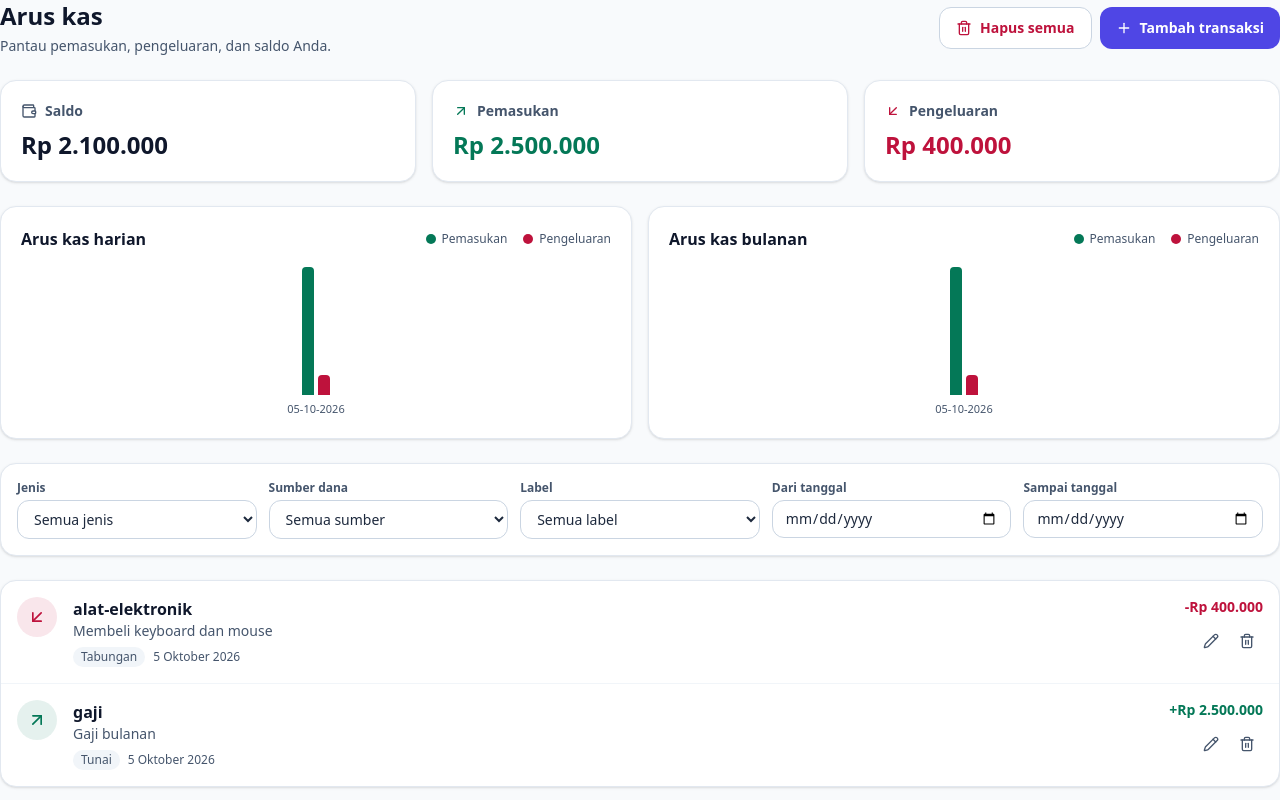
Test: HomePage › ubah transaksi › membuka form kosong untuk transaksi baru setelah sebelumnya mengubah
This screenshot has width=1280, height=800.
Click the button named "Ubah transaksi gaji" at (1211, 744), box [1195, 728, 1227, 760]
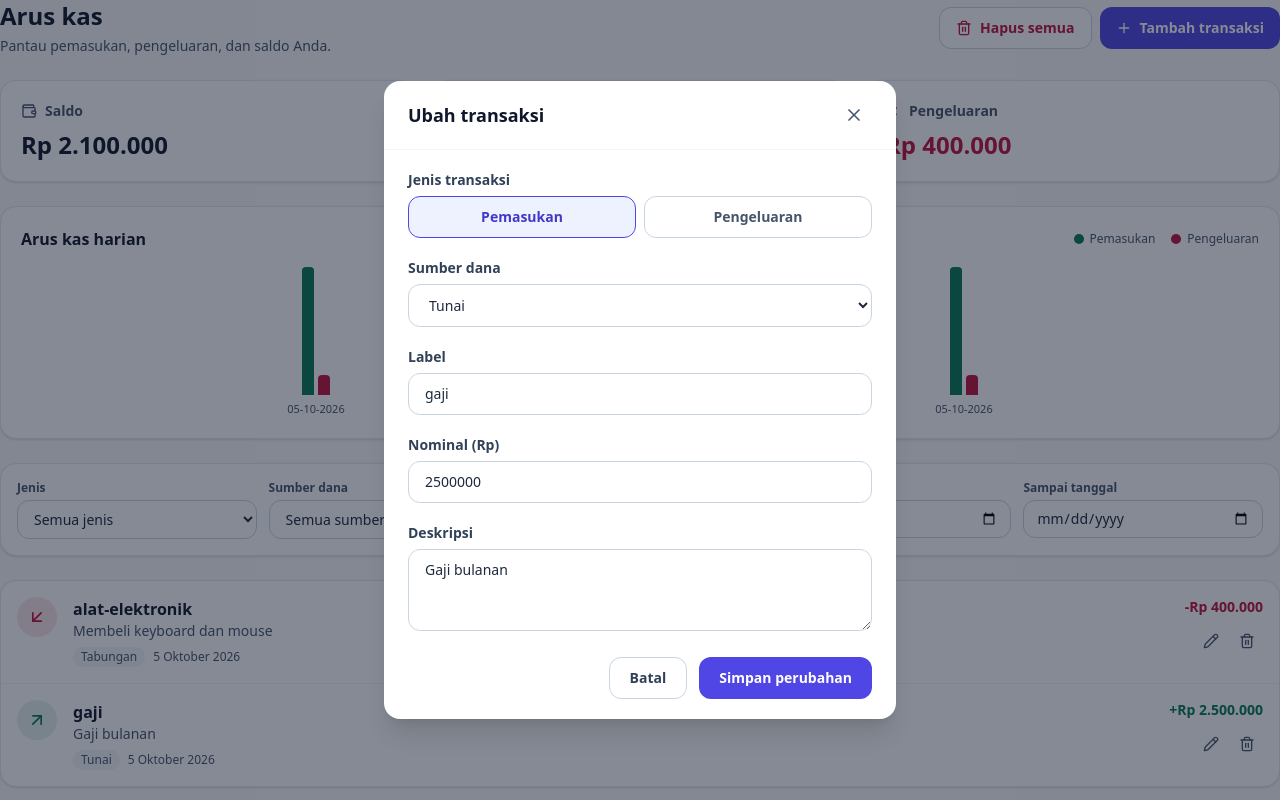
Expected: the button "Batal" is shown
Click the button "Batal" at (648, 678), box [609, 657, 687, 699]
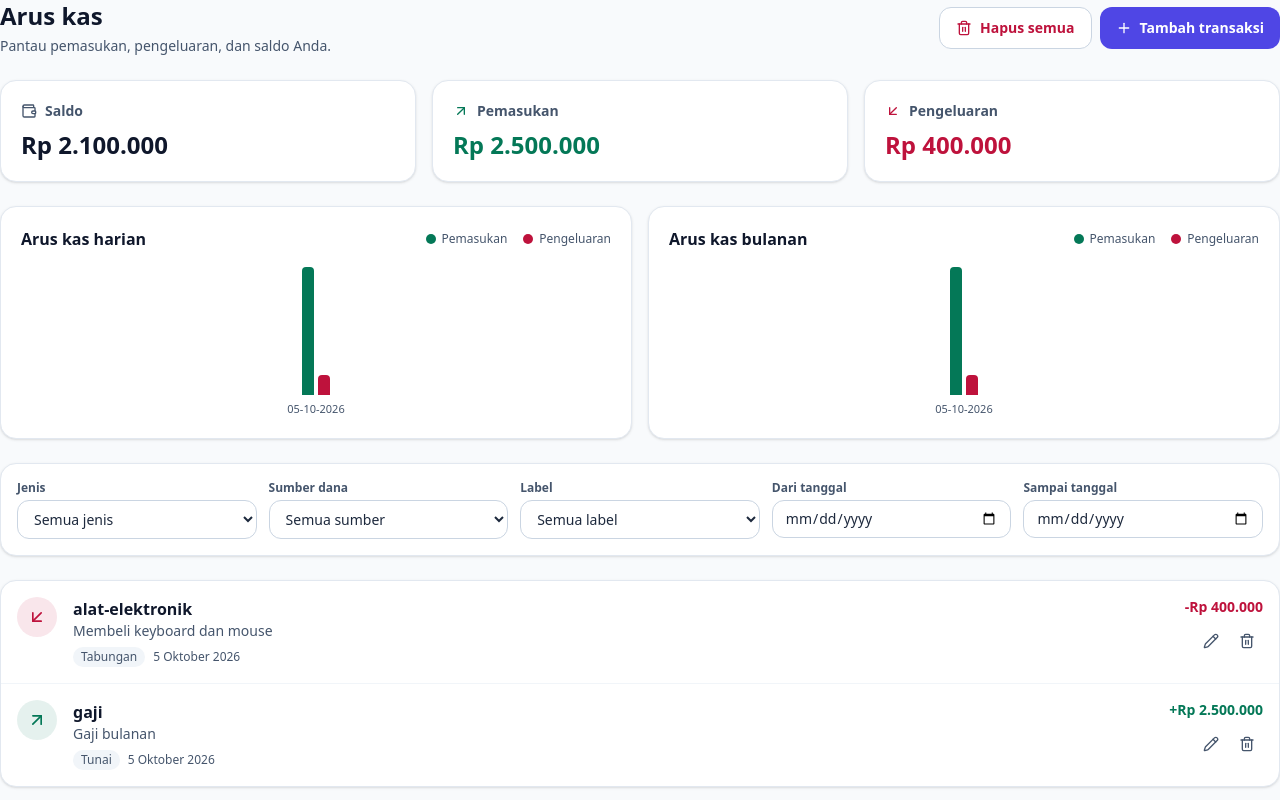
Click the button "Tambah transaksi" at (1190, 28), box [1100, 7, 1279, 49]
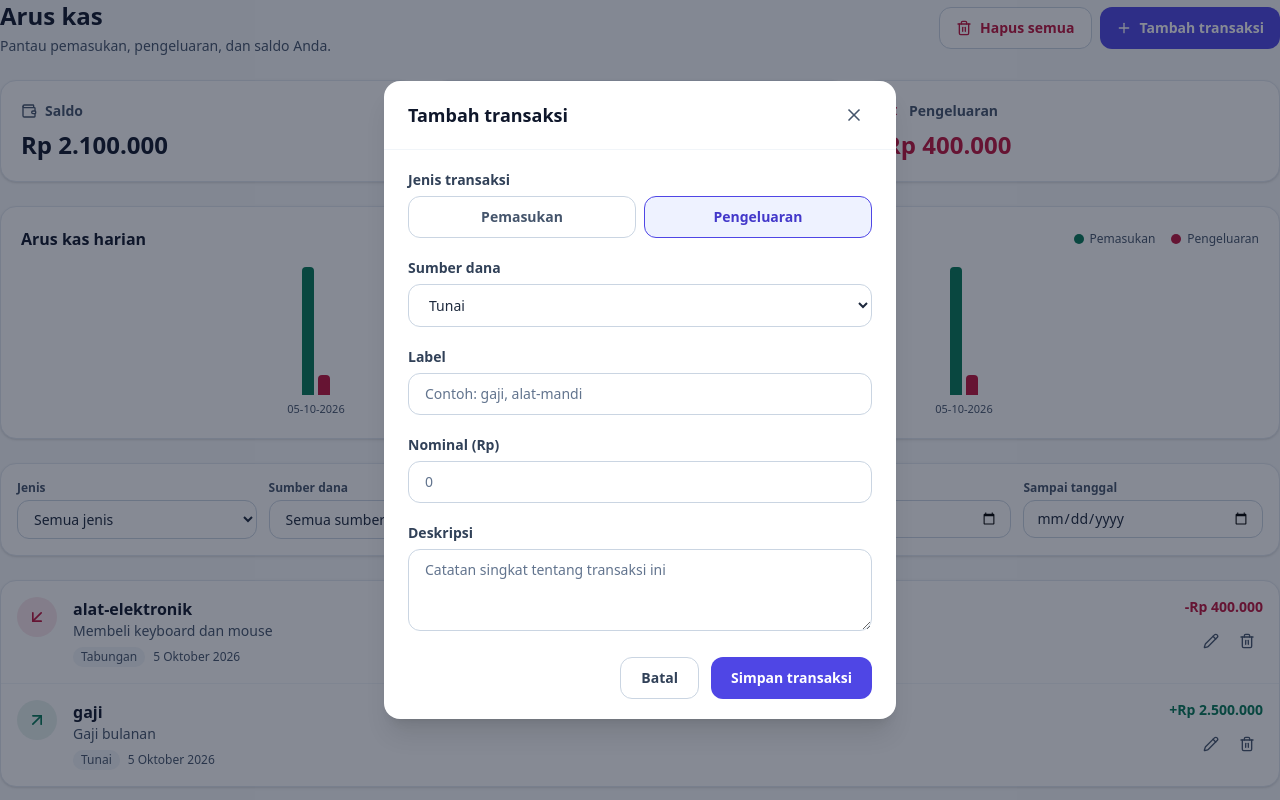
Expected: the heading "Tambah transaksi" is shown, [408, 101, 568, 129]
Expected: the field with id "cashflow-label" is empty, [408, 373, 872, 415]
